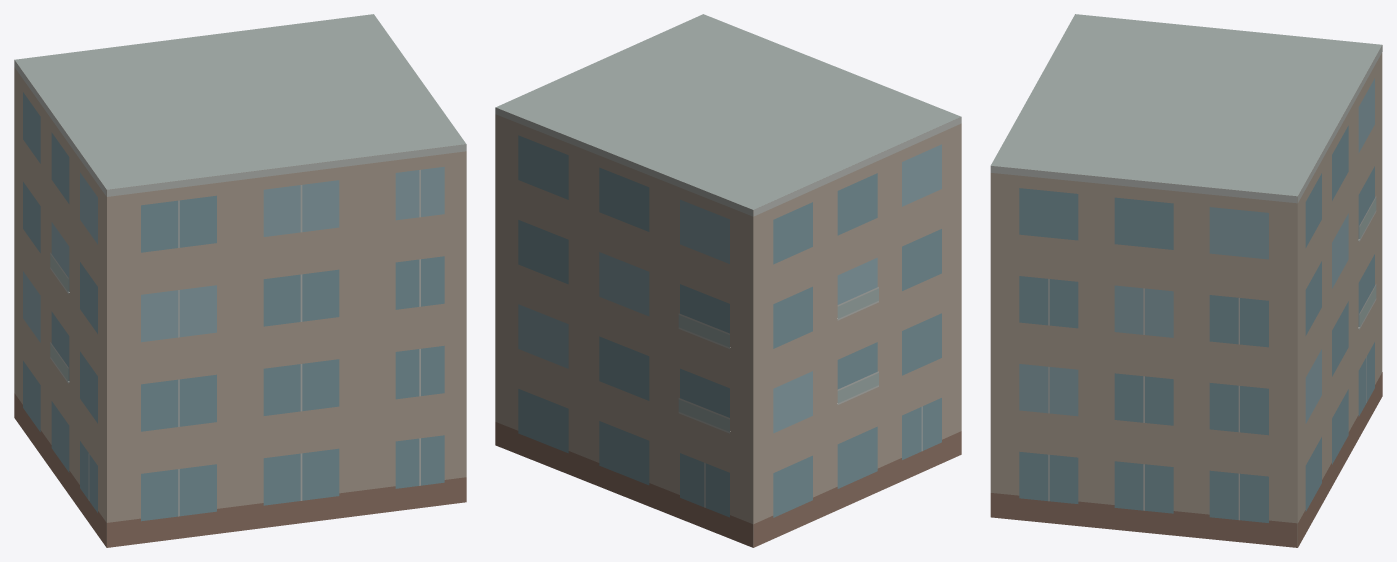
The model's file is residential-8bda7682-4a84-437a-8653-d09e08720a6e.glb.
3 views of the same model, side by side, from view 1: azimuth 30°, elevation 25°; view 2: azimuth 150°, elevation 25°; view 3: azimuth 270°, elevation 25° (orthographic). The views are drawn at different scales.
Visible parts, largest first — view 1: residential-8bda7682-4a84-437a-8653-d09e08720a6e.tmp; view 2: residential-8bda7682-4a84-437a-8653-d09e08720a6e.tmp; view 3: residential-8bda7682-4a84-437a-8653-d09e08720a6e.tmp.
Boxes of the visible parts, left/top/right/bottom form: residential-8bda7682-4a84-437a-8653-d09e08720a6e.tmp: left=14, top=14, right=466, bottom=547; residential-8bda7682-4a84-437a-8653-d09e08720a6e.tmp: left=495, top=14, right=961, bottom=547; residential-8bda7682-4a84-437a-8653-d09e08720a6e.tmp: left=990, top=14, right=1382, bottom=547.
Bounding box in the file's own units: 13.58 × 12.2 × 12.33.
